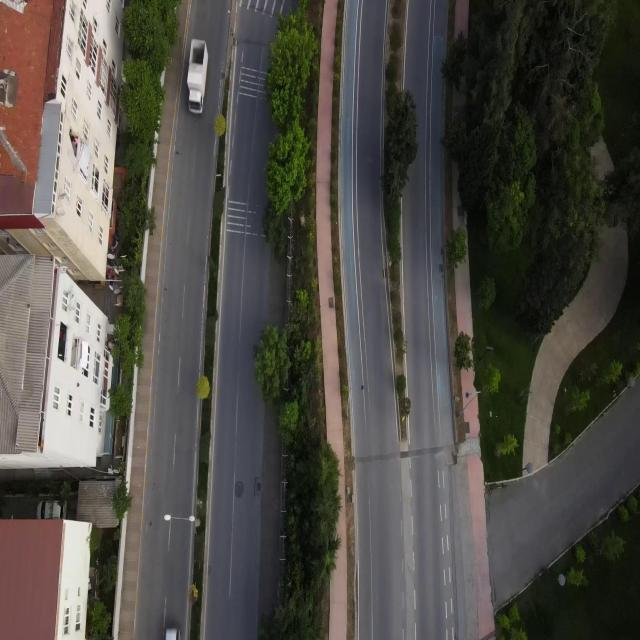p3rson: (73, 135, 78, 149)
